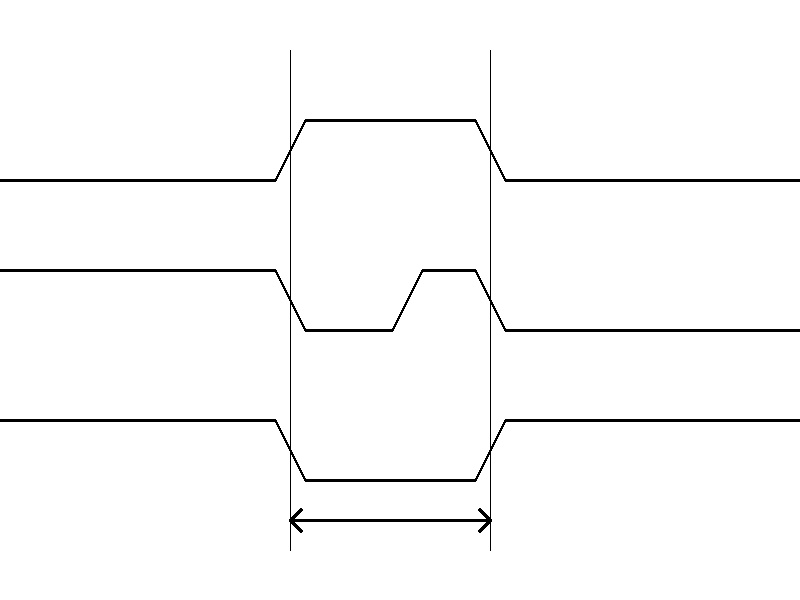double_arrow: (290, 505, 490, 535)
